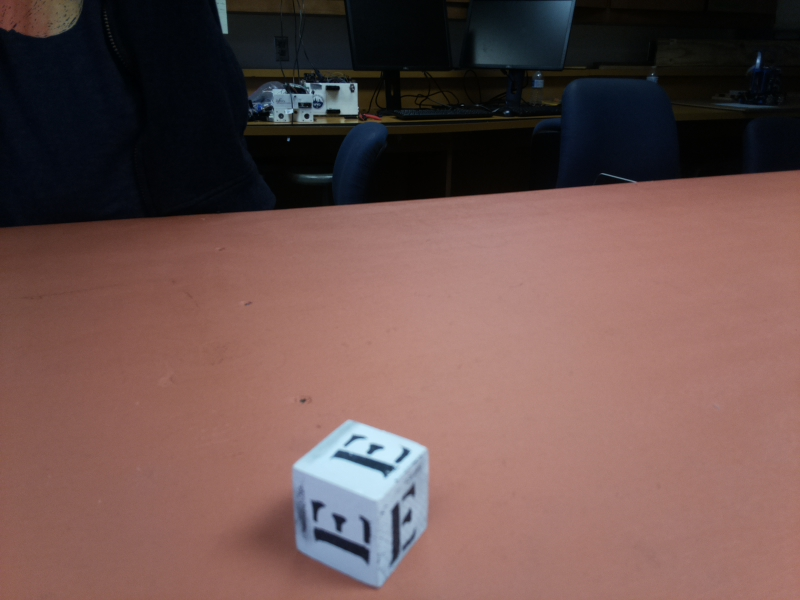blockE: (298, 418, 440, 575)
